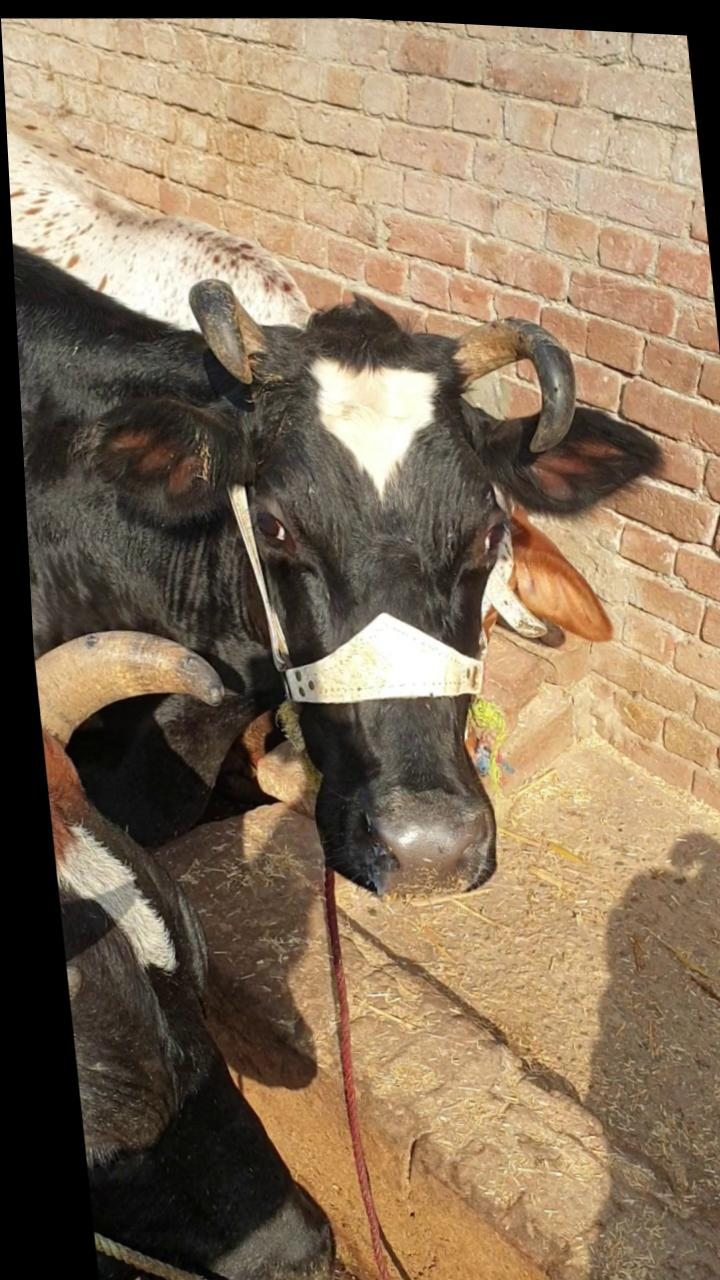cows: (191, 266, 591, 906), (37, 765, 261, 1280)
